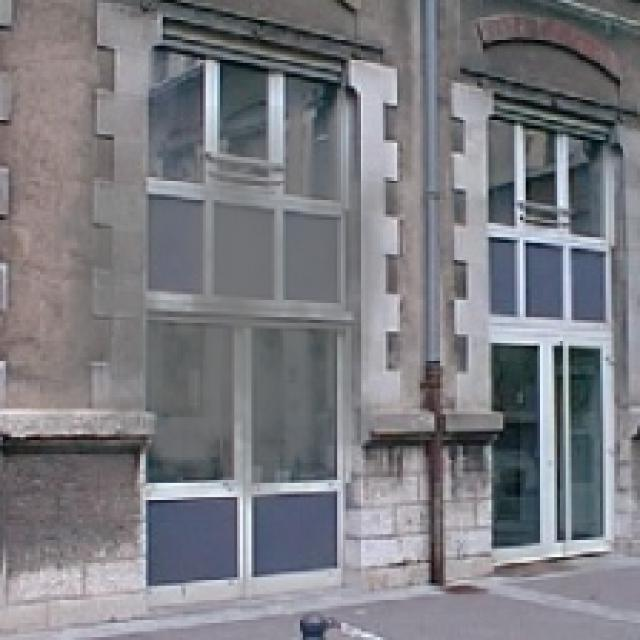Smoke: (39, 106, 394, 526)
